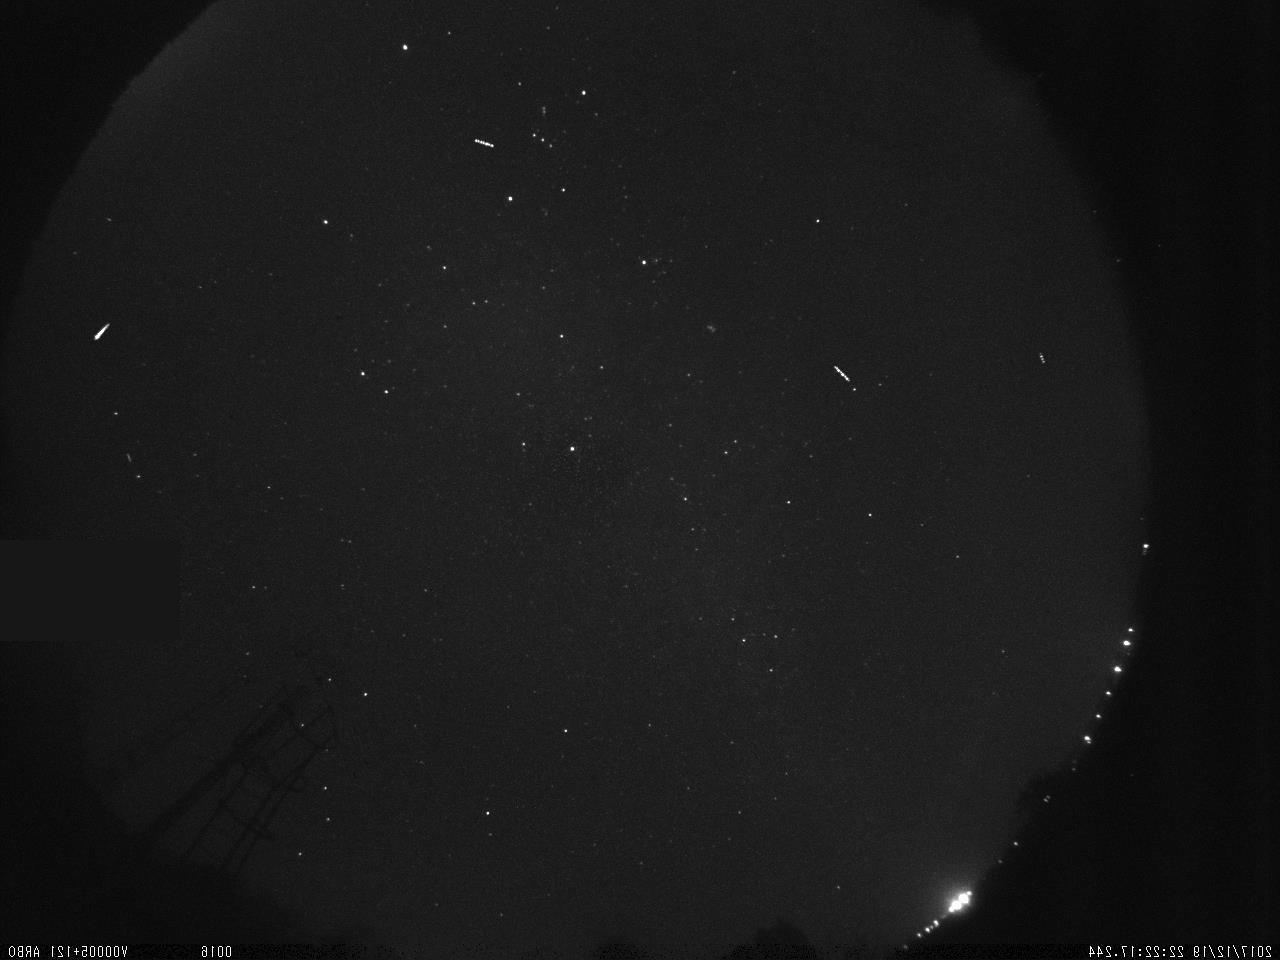meteor: (87, 318, 118, 345)
satelite: (467, 131, 505, 154), (829, 359, 855, 390)
